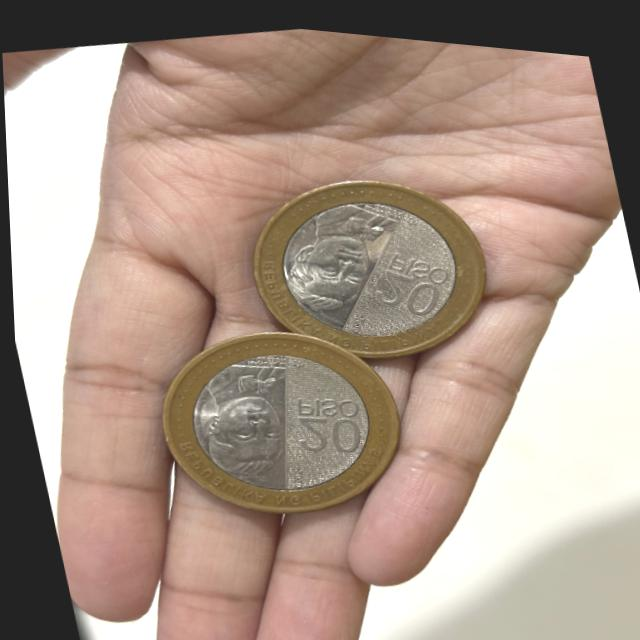20_New_Front: (356, 234, 459, 324), (276, 372, 369, 466)
